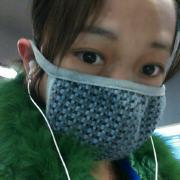OK: (44, 29, 176, 161)
